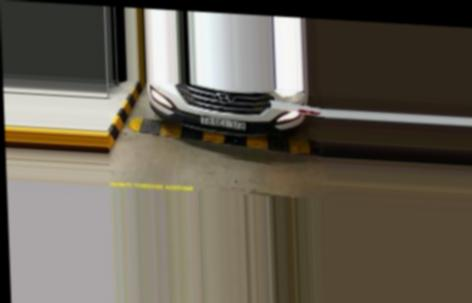License_Plate: (198, 116, 250, 132)
